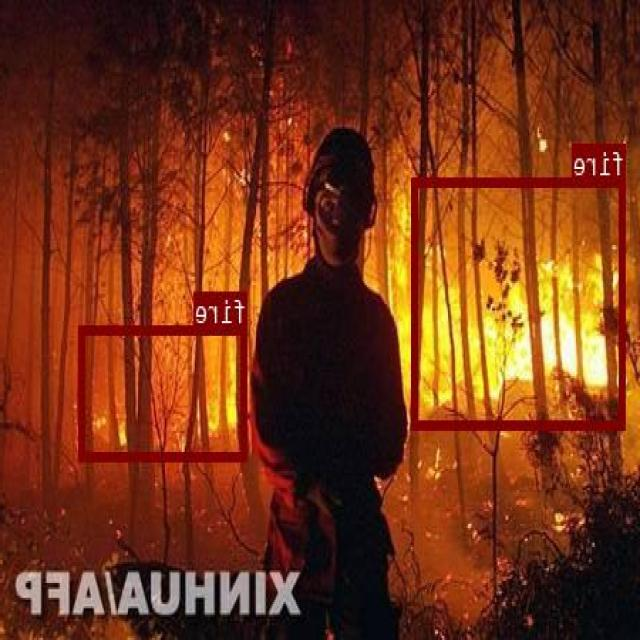fire: (414, 176, 627, 428), (80, 323, 249, 459)
